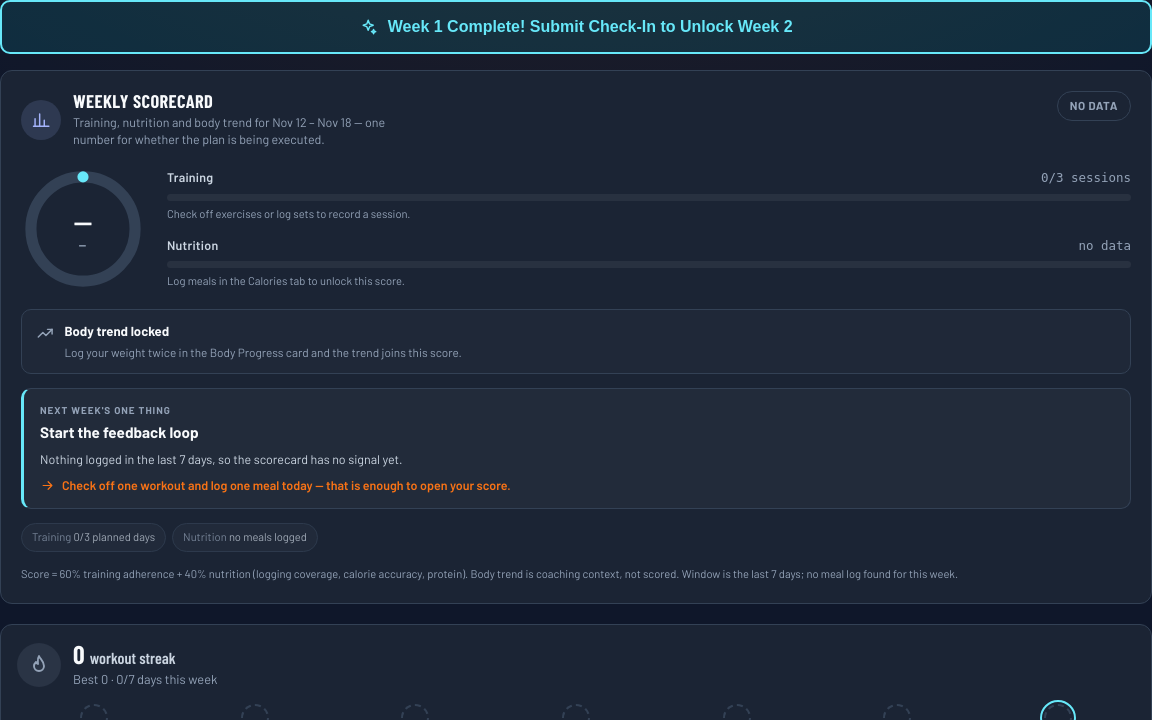
Scenario: MyPlan AI Check-in failure › displays error message when AI check-in generation fails
// Click to open check-in modal
What coordinates should you click on to do the following:
click the button "Week 1 Complete! Submit Check-In to Unlock Week 2"
I would click on:
 (576, 27)
Its box is [0, 0, 1151, 54].
(page scrolled)
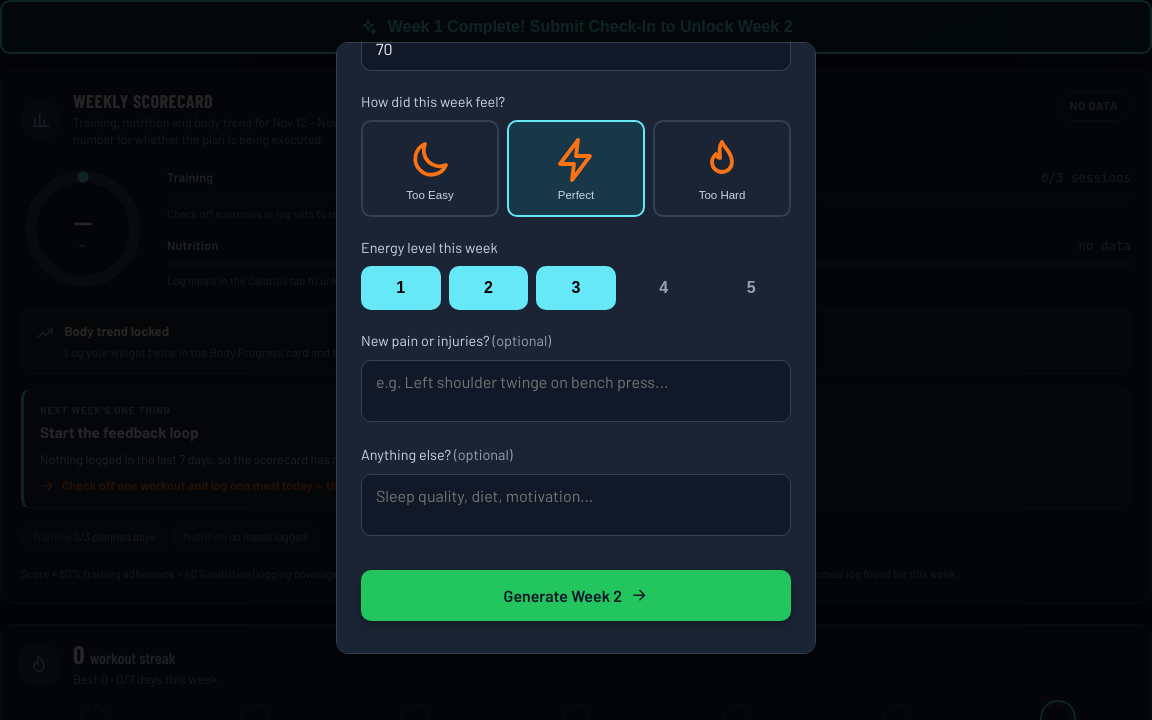
Expected: the button "Generate Week 2" is shown
// Click generate button, which should trigger the AI call and fail
What coordinates should you click on to do the following:
click the button "Generate Week 2"
I would click on:
 (576, 595)
Its box is [361, 570, 791, 621].
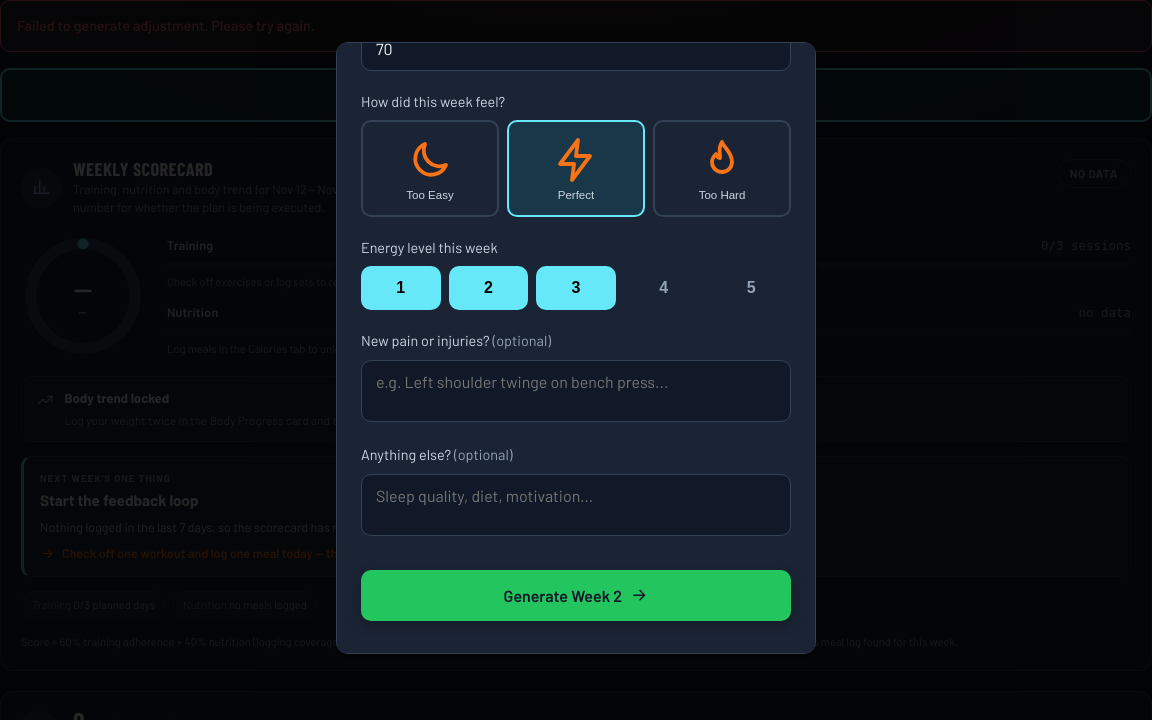
Expected: the text "Failed to generate adjustment. Please try again." is shown, [0, 0, 1151, 52]
